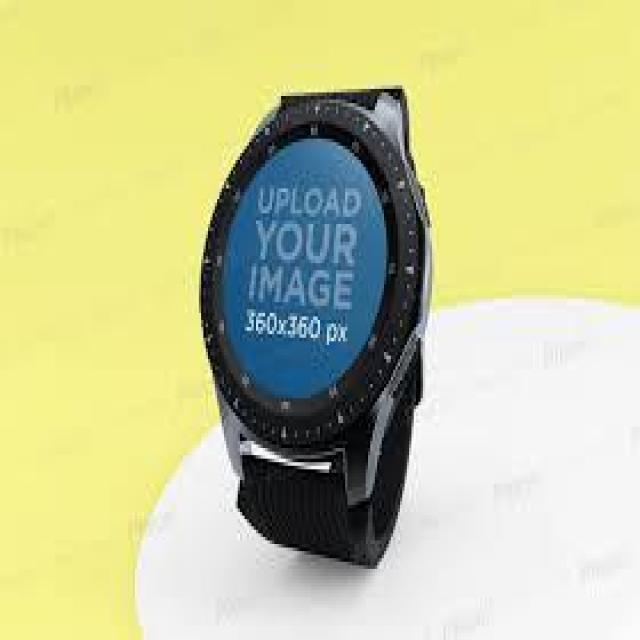watch: (128, 37, 503, 618)
